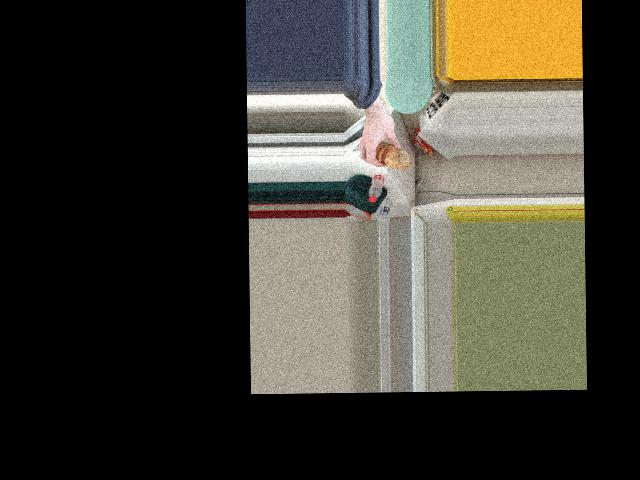sweet_potato: (376, 141, 404, 169)
